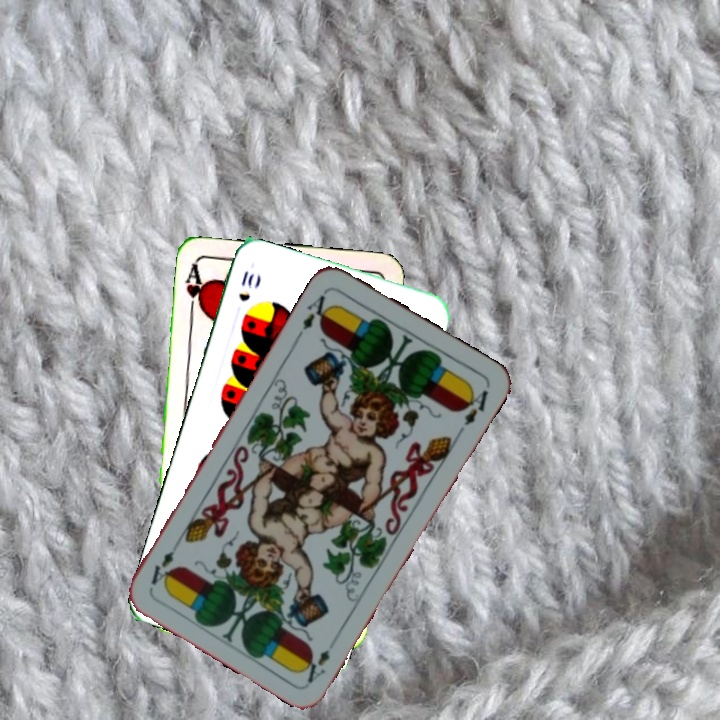EA: (298, 287, 336, 333), (299, 645, 333, 687)
HA: (181, 259, 208, 318)
S10: (234, 266, 257, 305)
